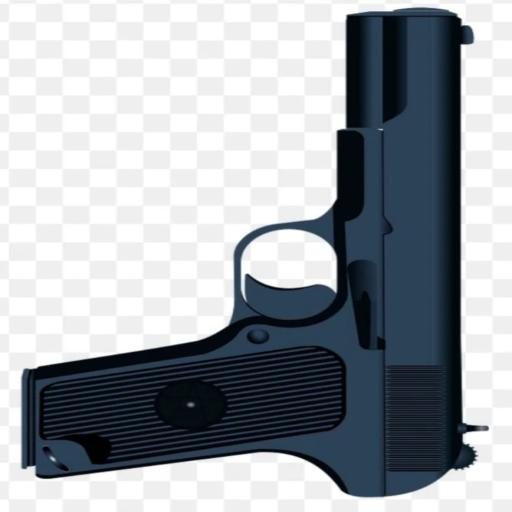Gun: (22, 8, 487, 496)
